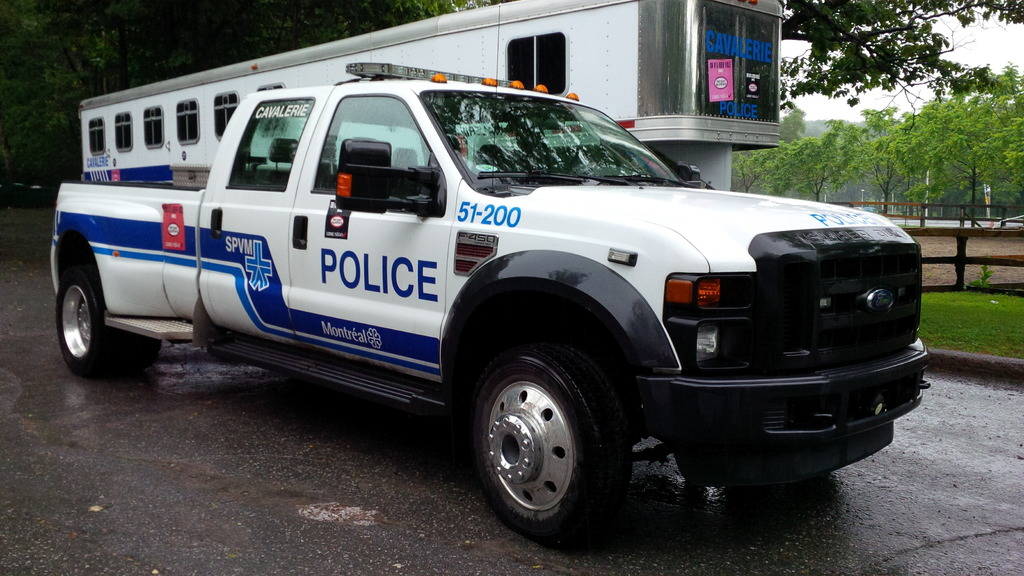Tree: (0, 0, 1024, 206)
